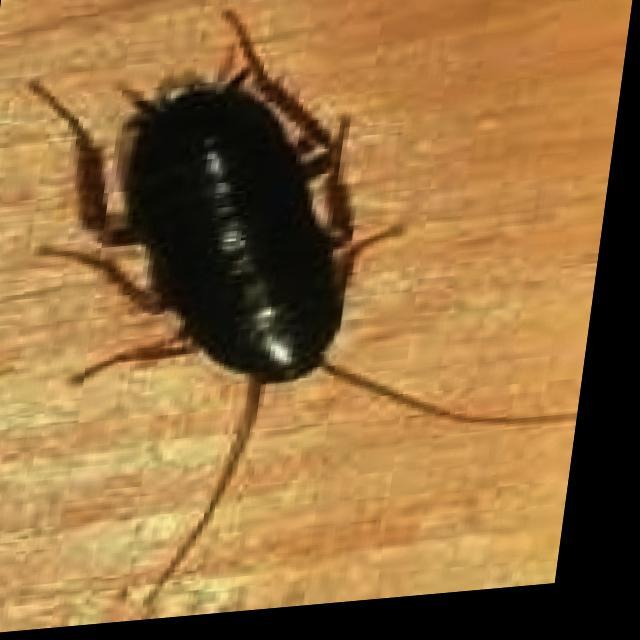cockroach: (37, 38, 424, 475)
